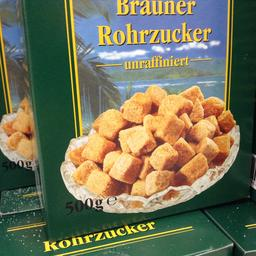sugar: (20, 0, 252, 241)
